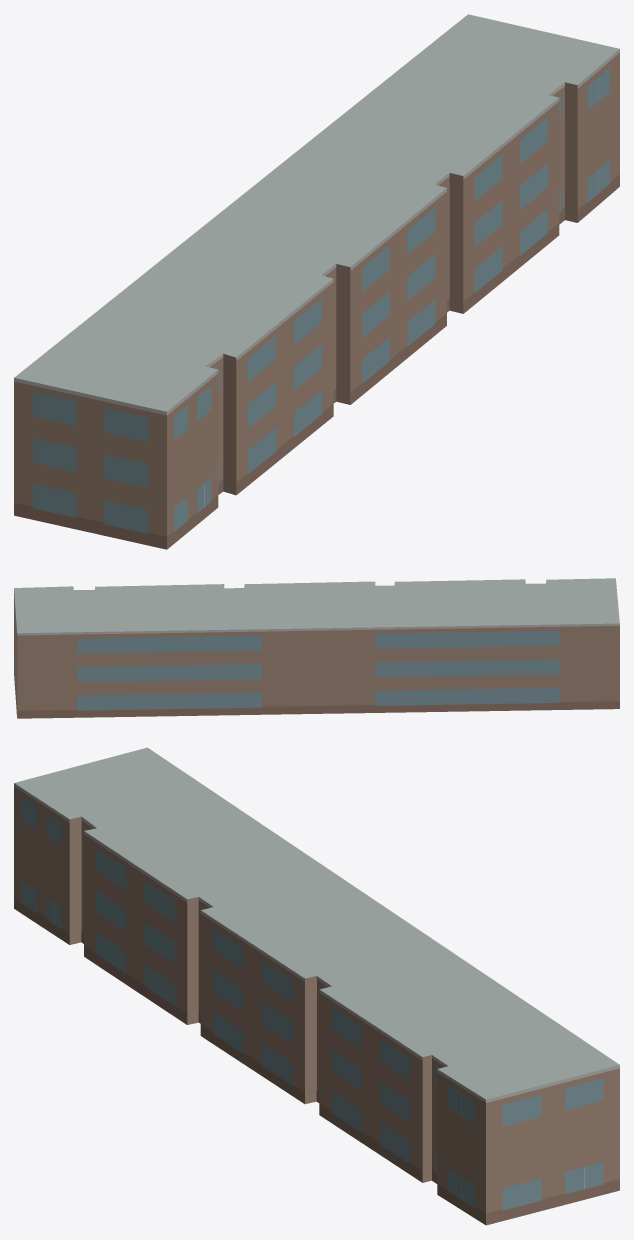
The model's file is survey-upis-32752026.glb.
The picture shows the model from 3 angles, top to bottom: view 1: azimuth 30°, elevation 25°; view 2: azimuth 150°, elevation 25°; view 3: azimuth 270°, elevation 25°; orthographic projection. The views are drawn at different scales.
Visible parts, largest first — view 1: survey-upis-32752026.tmp; view 2: survey-upis-32752026.tmp; view 3: survey-upis-32752026.tmp.
Boxes of the visible parts, x1=… form: survey-upis-32752026.tmp: x1=14, y1=14, x2=619, y2=549; survey-upis-32752026.tmp: x1=14, y1=578, x2=619, y2=718; survey-upis-32752026.tmp: x1=14, y1=747, x2=619, y2=1225.
Bounding box in the file's own units: 54.99 × 9.15 × 39.98.
